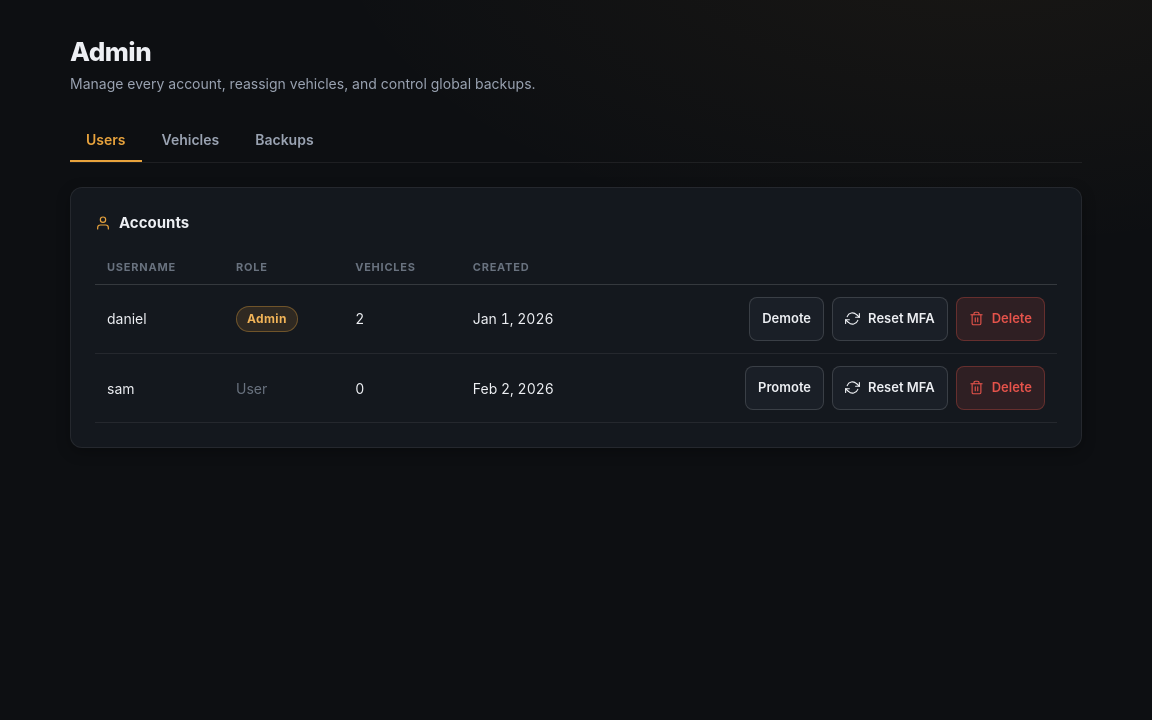
Test: Admin — Users tab › shows the 409 last-admin lockout error inline
This screenshot has width=1152, height=720.
Expected: the text "daniel" is shown, [95, 284, 224, 353]
Click the button "Demote": {"x": 787, "y": 318} [749, 296, 824, 340]
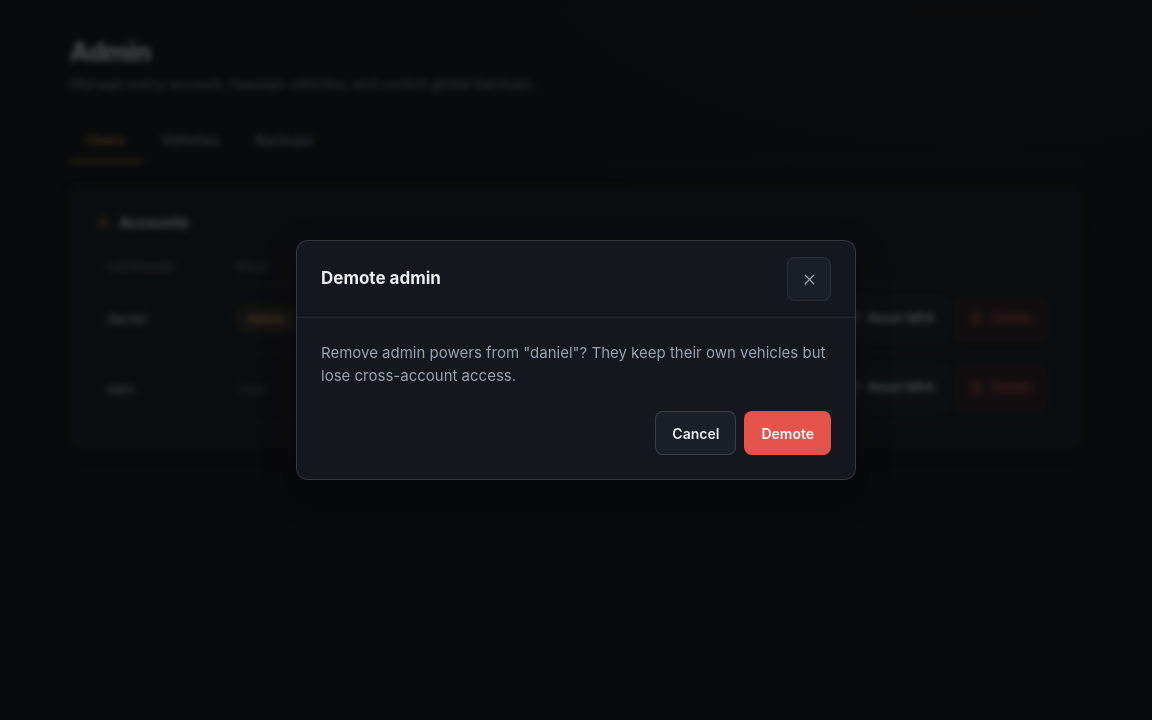
Click the button "Demote": {"x": 788, "y": 433} [744, 411, 831, 455]
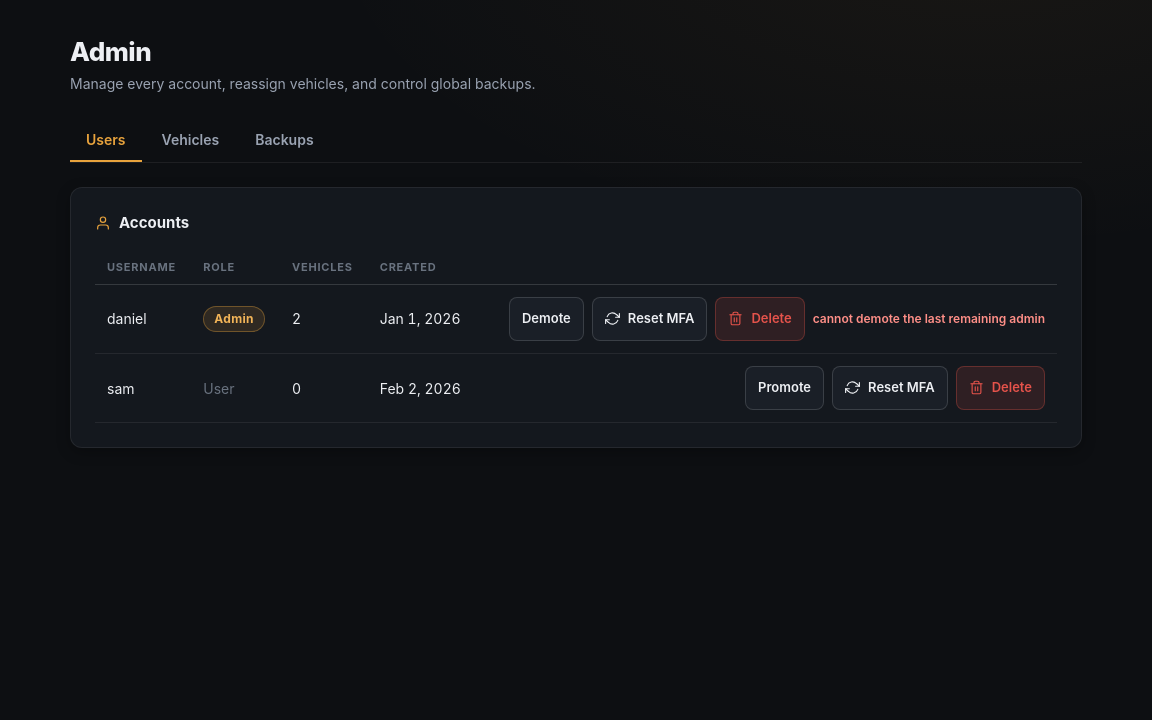
Result: the text "cannot demote the last remaining admin" is shown at [813, 309, 1045, 327]
